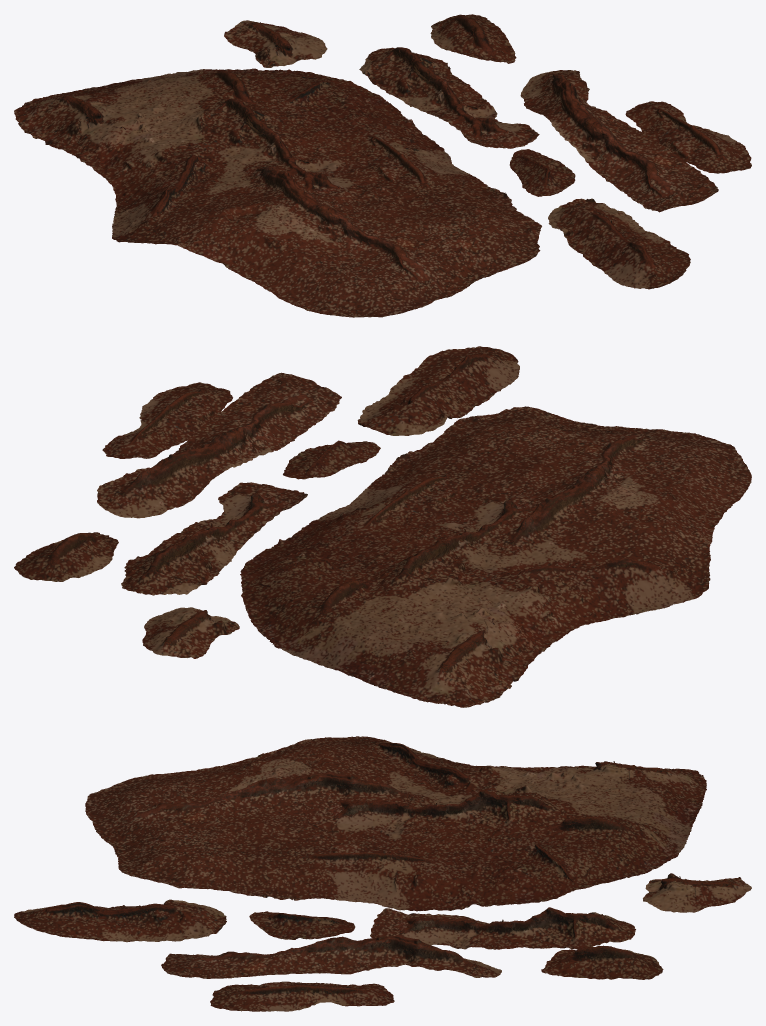
The picture shows the model from 3 angles, top to bottom: view 1: azimuth 30°, elevation 25°; view 2: azimuth 150°, elevation 25°; view 3: azimuth 270°, elevation 25°; orthographic projection. The views are drawn at different scales.
Visible parts, largest first — view 1: root_cluster_02_a, root_cluster_02_f, root_cluster_02_d, root_cluster_02_b, root_cluster_02_g, root_cluster_02_e, root_cluster_02_h, root_cluster_02_c; view 2: root_cluster_02_a, root_cluster_02_f, root_cluster_02_d, root_cluster_02_b, root_cluster_02_g, root_cluster_02_h, root_cluster_02_e, root_cluster_02_c; view 3: root_cluster_02_a, root_cluster_02_f, root_cluster_02_d, root_cluster_02_b, root_cluster_02_g, root_cluster_02_h, root_cluster_02_e, root_cluster_02_c.
Boxes of the visible parts, <box> form: root_cluster_02_a: <box>14,68,541,317</box>; root_cluster_02_f: <box>520,70,718,212</box>; root_cluster_02_d: <box>359,47,539,148</box>; root_cluster_02_b: <box>548,198,690,289</box>; root_cluster_02_g: <box>625,101,751,173</box>; root_cluster_02_e: <box>224,20,327,67</box>; root_cluster_02_h: <box>430,14,516,63</box>; root_cluster_02_c: <box>509,149,575,196</box>; root_cluster_02_a: <box>240,406,751,707</box>; root_cluster_02_f: <box>97,372,341,518</box>; root_cluster_02_d: <box>121,482,307,595</box>; root_cluster_02_b: <box>357,346,519,435</box>; root_cluster_02_g: <box>102,382,232,458</box>; root_cluster_02_h: <box>14,532,118,581</box>; root_cluster_02_e: <box>142,607,239,658</box>; root_cluster_02_c: <box>283,440,380,479</box>; root_cluster_02_a: <box>85,736,706,911</box>; root_cluster_02_f: <box>161,934,501,978</box>; root_cluster_02_d: <box>370,907,635,949</box>; root_cluster_02_b: <box>14,899,226,942</box>; root_cluster_02_g: <box>210,981,394,1011</box>; root_cluster_02_h: <box>541,945,663,979</box>; root_cluster_02_e: <box>643,873,751,912</box>; root_cluster_02_c: <box>249,911,355,939</box>.
Bounding box in the file's own units: 2.38 × 0.1986 × 2.71.
1 material, 1 textured.
